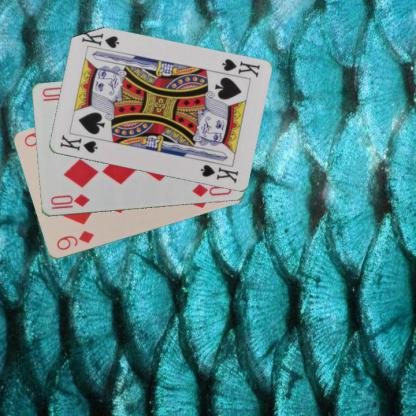10d: (48, 191, 91, 211)
9d: (54, 228, 95, 252)
Ks: (219, 56, 261, 79), (57, 132, 98, 155)
